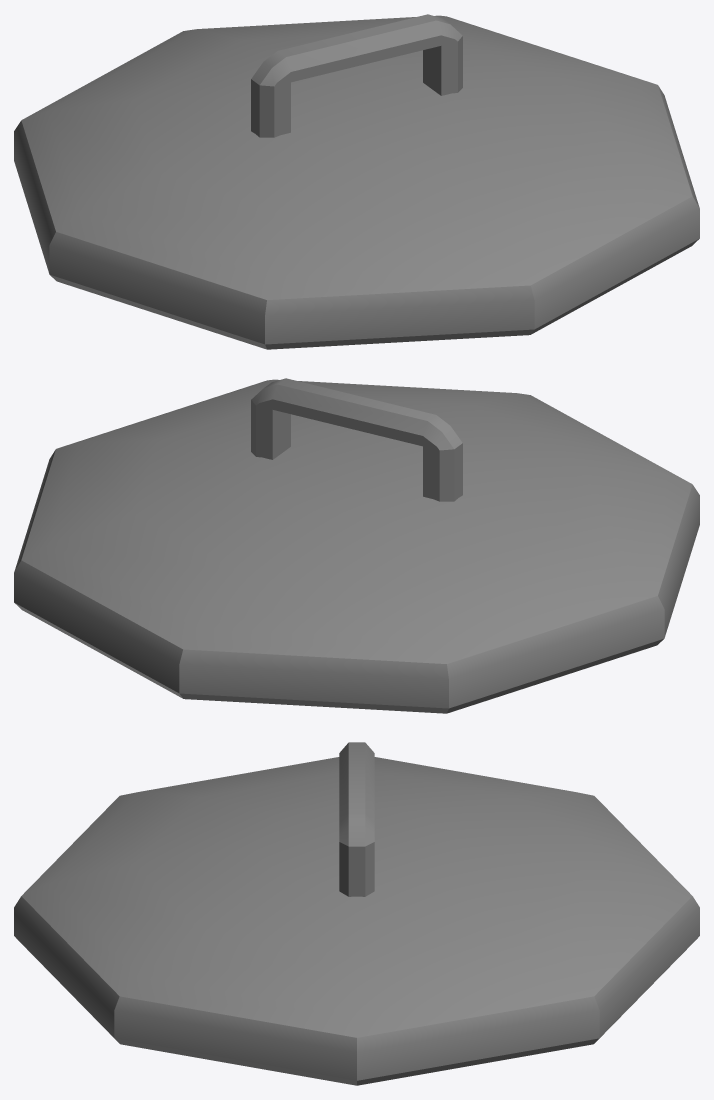
The model's file is TrashcanLid.fbx.
3 views of the same model, one above another, from view 1: azimuth 30°, elevation 25°; view 2: azimuth 150°, elevation 25°; view 3: azimuth 270°, elevation 25° (orthographic). The views are drawn at different scales.
Visible parts, largest first — view 1: TrashcanLid; view 2: TrashcanLid; view 3: TrashcanLid.
Boxes of the visible parts, x1,y1,x2,y2 form: TrashcanLid: (14,14,699,349); TrashcanLid: (14,378,699,713); TrashcanLid: (14,742,699,1085).
Size of the model in its own units: 48.35 by 12.95 by 48.35.
1 material, 1 textured.
